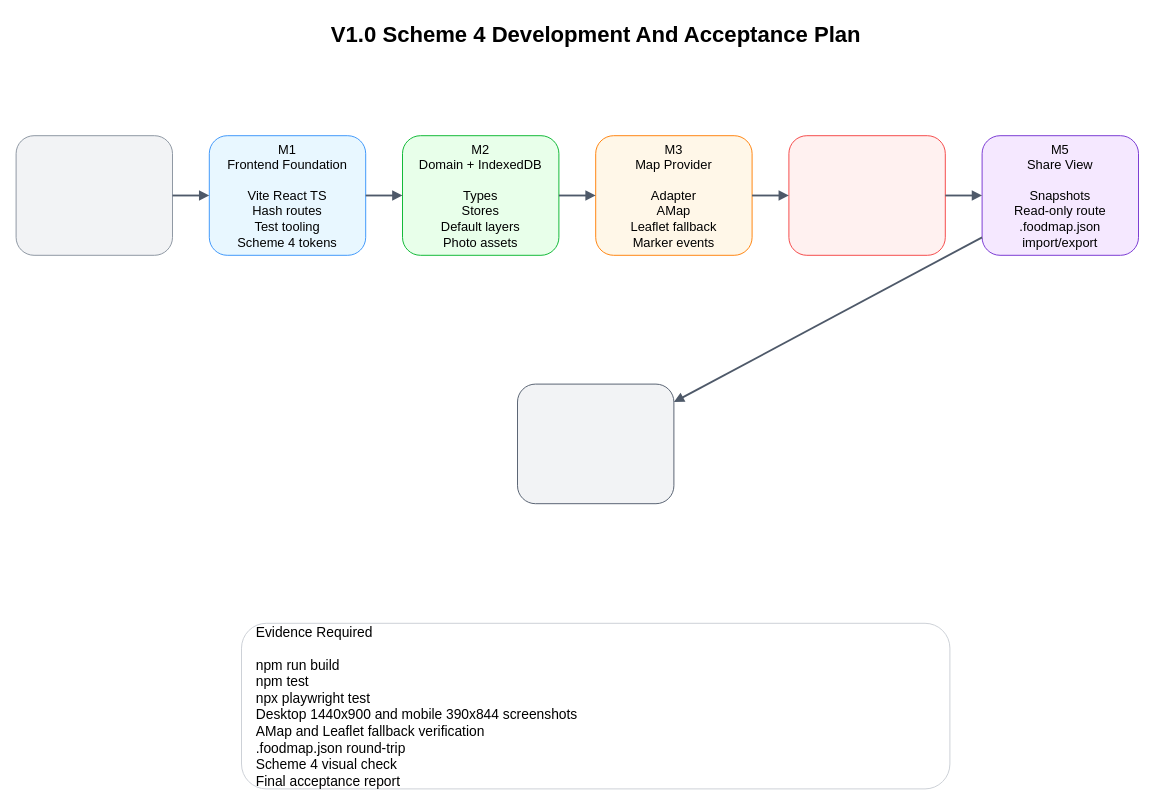
This 1155x805 diagram has some shape labels left out. Each missing label, with the box of its shape:
M0 Docs + Scheme 4 Baseline PRD Dev plan Figma prompts Drawio gap: (15, 135, 172, 255)
M4 Workspace UI Layers Editor Photos Filters Mobile sheets: (788, 135, 945, 255)
M6-M7 Visual + Final Acceptance Scheme 4 polish Build Tests Screenshots Report: (517, 383, 674, 504)
